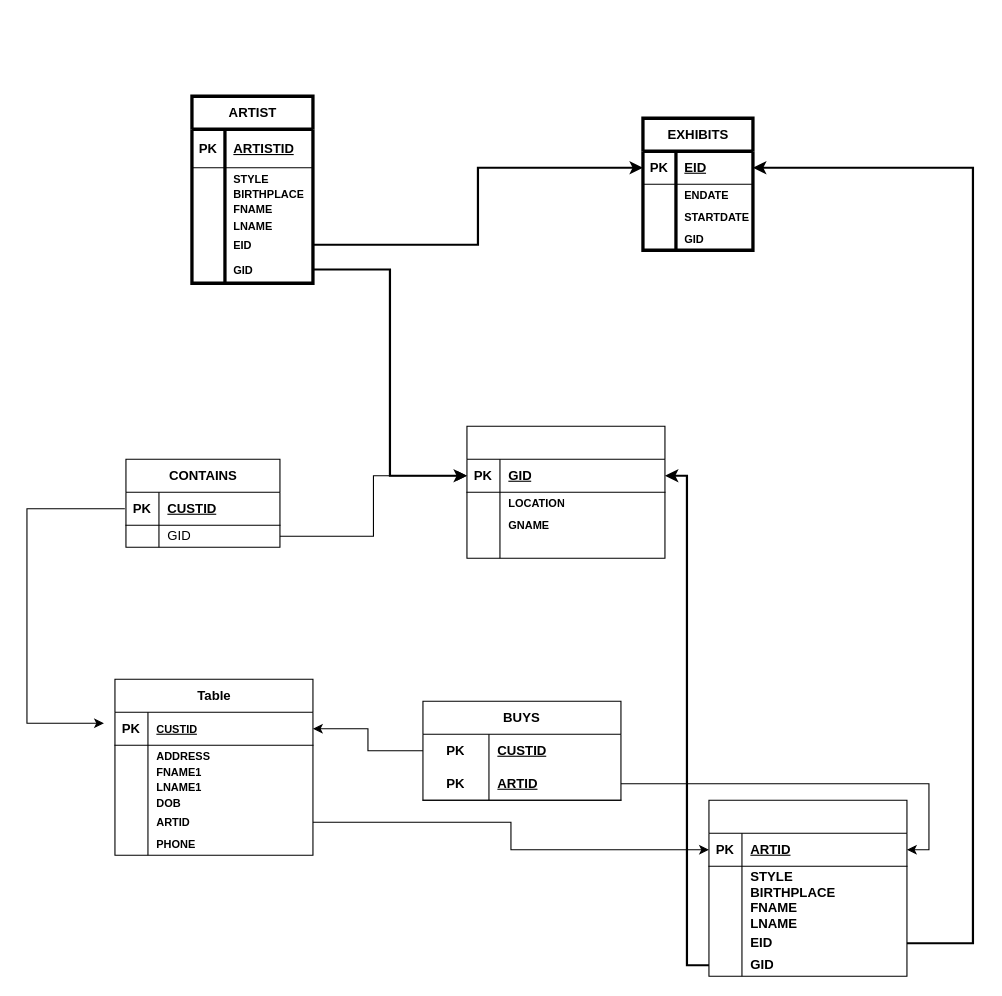
Some shapes in this 1002 by 996 pixel diagram are drawn without their labels. The shapes that lost their labels are listed below. From the top down, each one's box as (x1, y1, x2, y2) in pixels, then its label:
(466, 425, 665, 558): GALLERY
(708, 799, 907, 976): ARTWORK
